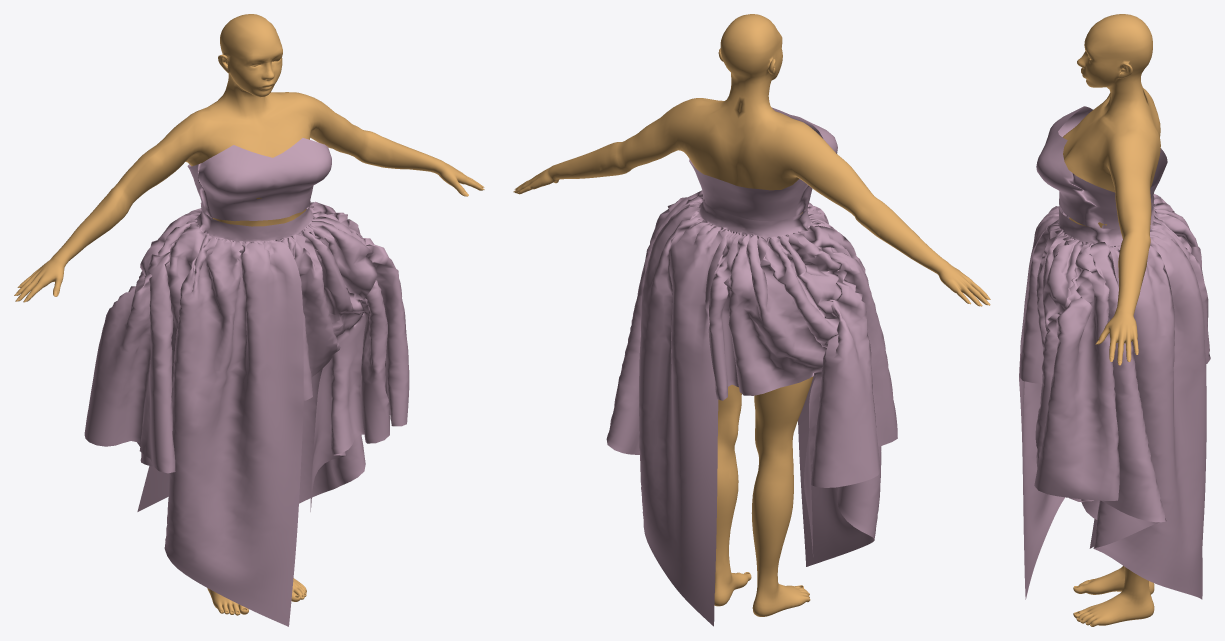
Rendered from dress8.glb.
3 views of the same model, side by side, from view 1: azimuth 30°, elevation 25°; view 2: azimuth 150°, elevation 25°; view 3: azimuth 270°, elevation 25° (orthographic). The views are drawn at different scales.
Visible parts, largest first — view 1: Project 1, Body.003; view 2: Project 1, Body.003; view 3: Project 1, Body.003.
Part boxes in pixels (x1,y1,x2,y2): Project 1: (84, 138, 409, 626); Body.003: (16, 14, 483, 615); Project 1: (606, 107, 897, 626); Body.003: (514, 14, 988, 616); Project 1: (1019, 106, 1210, 599); Body.003: (1063, 14, 1160, 626).
Size of the model in its own units: 1.58 by 1.85 by 0.5449.
